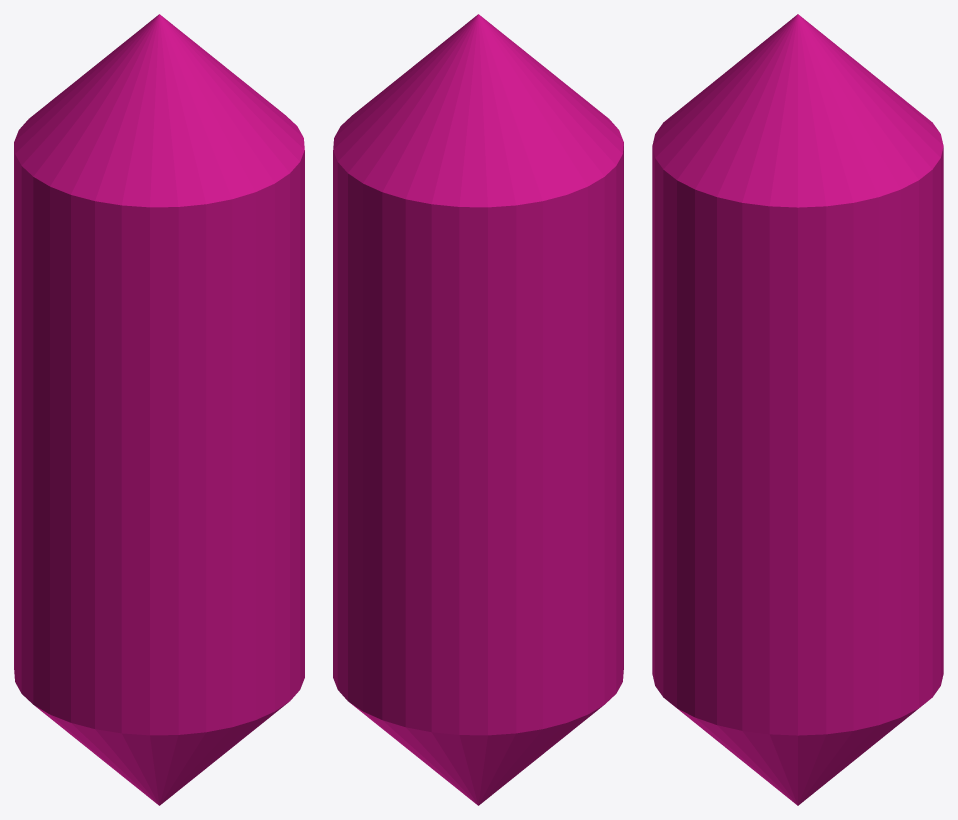
Rendered from example.obj.
The picture shows the model from 3 angles, left to right: view 1: azimuth 30°, elevation 25°; view 2: azimuth 150°, elevation 25°; view 3: azimuth 270°, elevation 25°; orthographic projection.
Visible parts, largest first — view 1: Circle_Material; view 2: Circle_Material; view 3: Circle_Material.
Boxes of the visible parts, x1,y1,x2,y2 form: Circle_Material: [14, 14, 304, 805]; Circle_Material: [333, 14, 623, 805]; Circle_Material: [652, 14, 943, 805].
Size of the model in its own units: 2 by 6 by 2.
